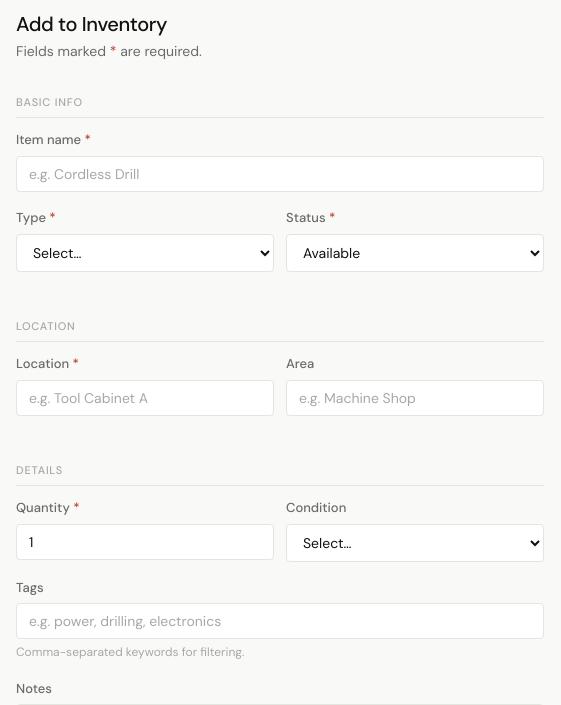
AddItemPage › shows the "checked out by" field only when status is set to checked-out
Expected: the field labelled "checked out by" is not shown
Select "Checked out" in the dropdown labelled "Status *": (415, 253) [286, 234, 544, 272]
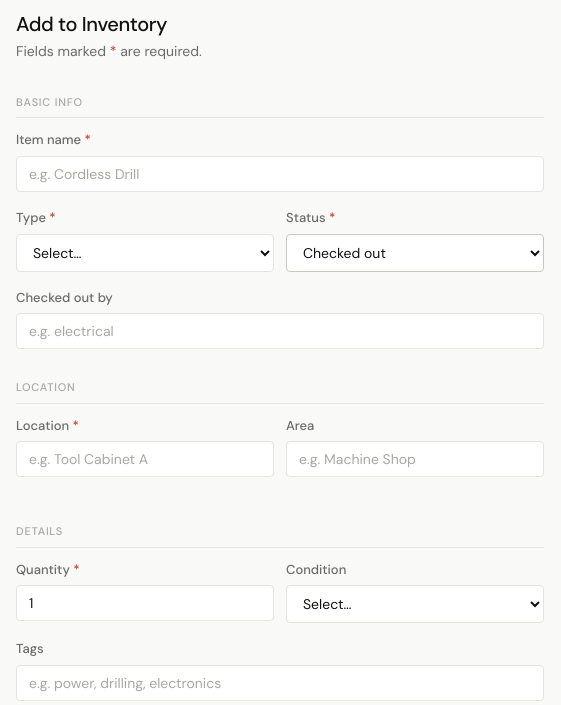
Expected: the field labelled "Checked out by" is shown, [16, 313, 544, 349]
